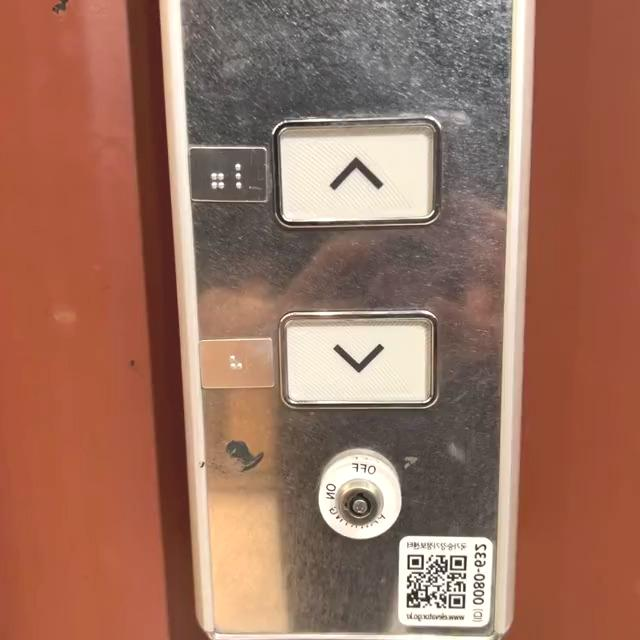button: (280, 310, 432, 421), (273, 120, 437, 219)
